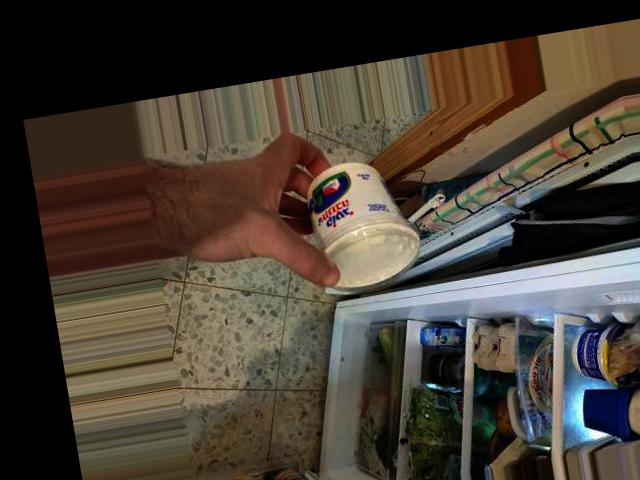cotage: (291, 153, 418, 293)
